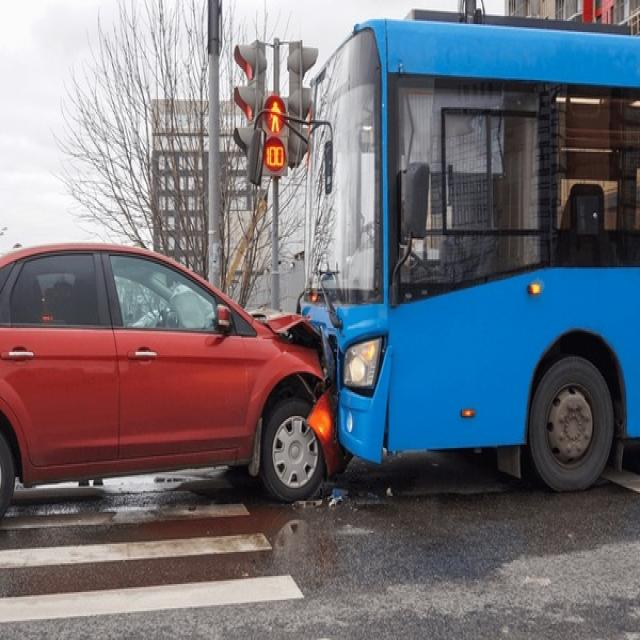Accident: (0, 18, 640, 535)
